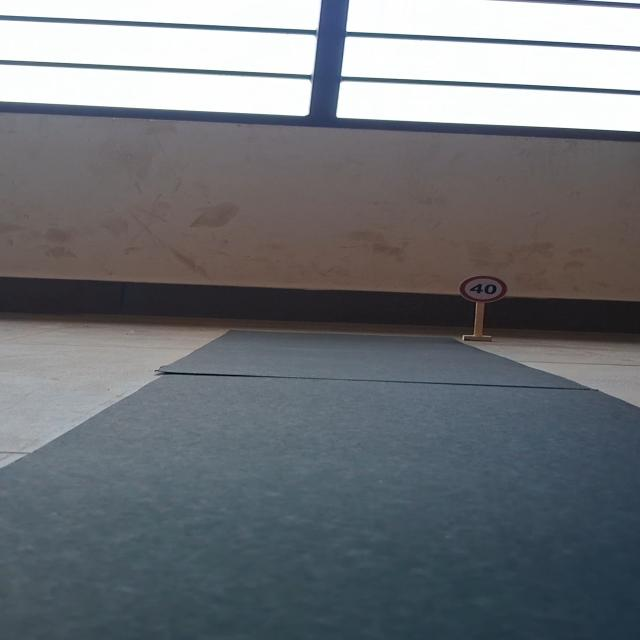Speed40: (454, 270, 514, 305)
